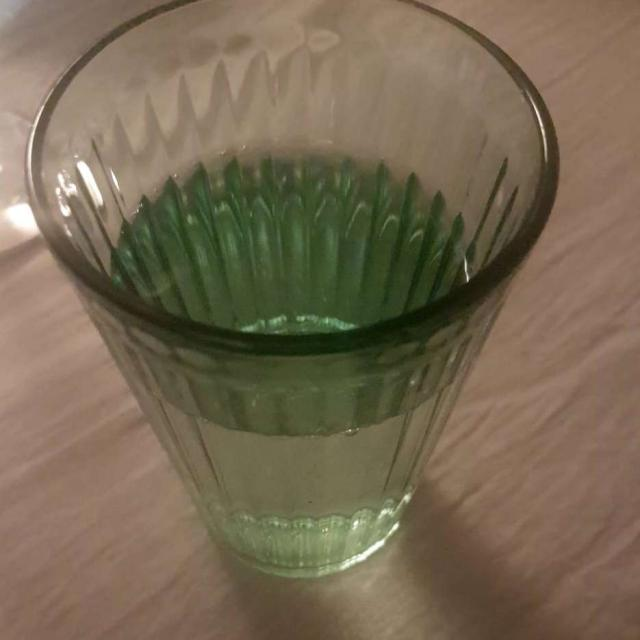water: (116, 156, 473, 336)
